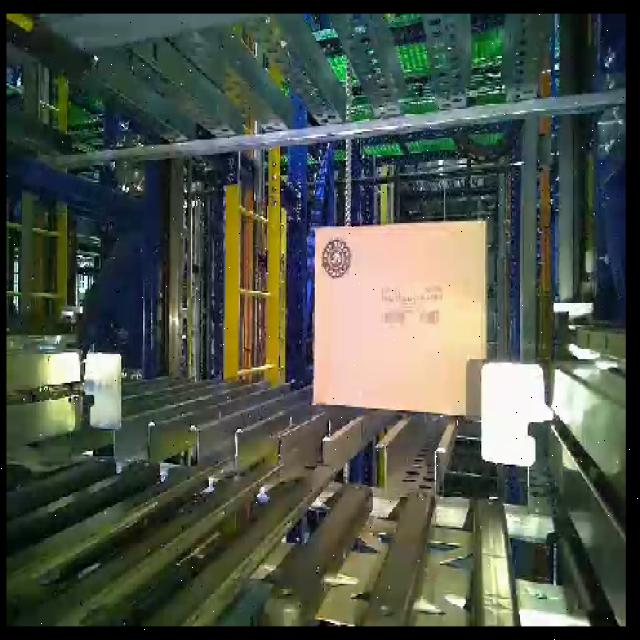box: (312, 219, 490, 420)
